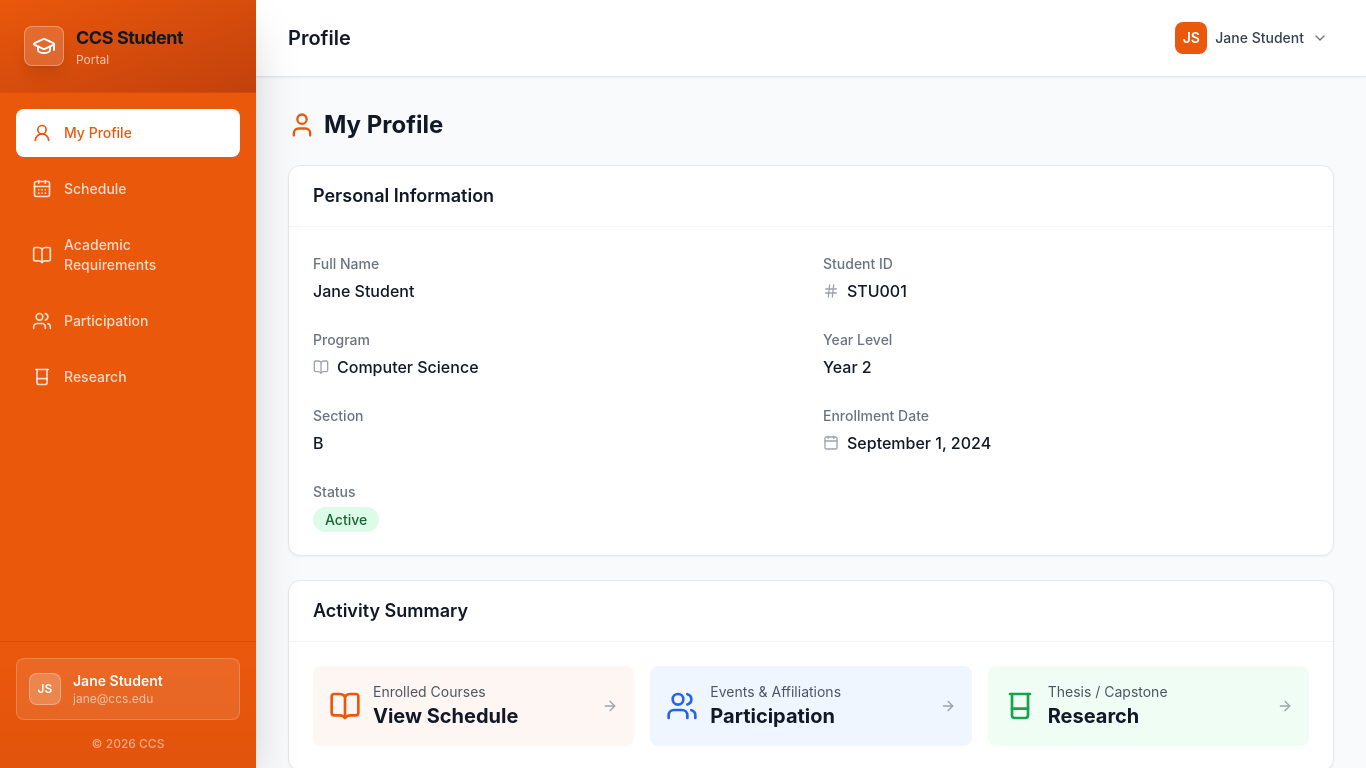
Test: Student Portal Integration Tests › Logout clears session and redirects › logout redirects to /student/login
This screenshot has width=1366, height=768.
Expected: the text "My Profile" is shown, x1=64 y1=123 x2=132 y2=143
// Open user dropdown then click logout
Click the button with aria-label "user menu" at coordinates (1252, 38), box x1=1169 y1=16 x2=1334 y2=60
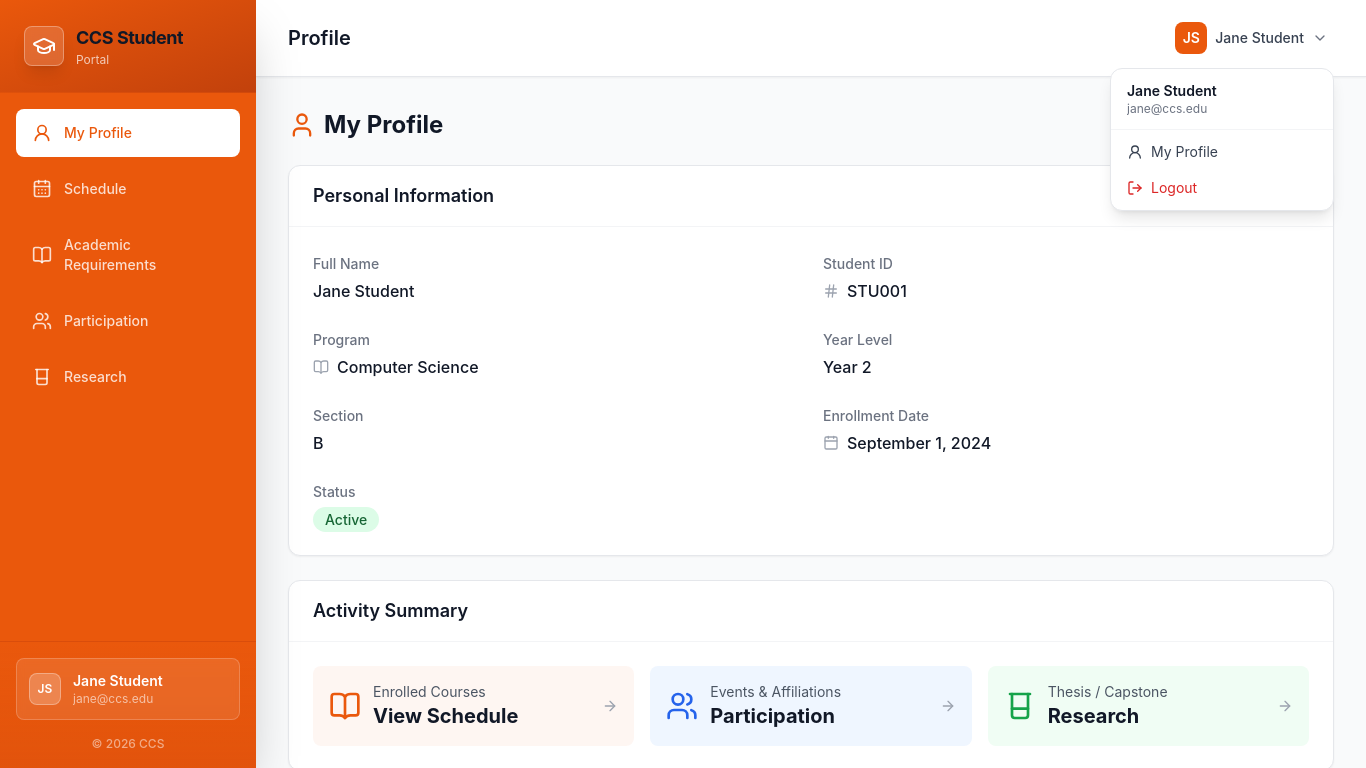
Expected: the button "Logout" is shown
Click the button "Logout" at coordinates (1222, 188), box x1=1115 y1=170 x2=1329 y2=206
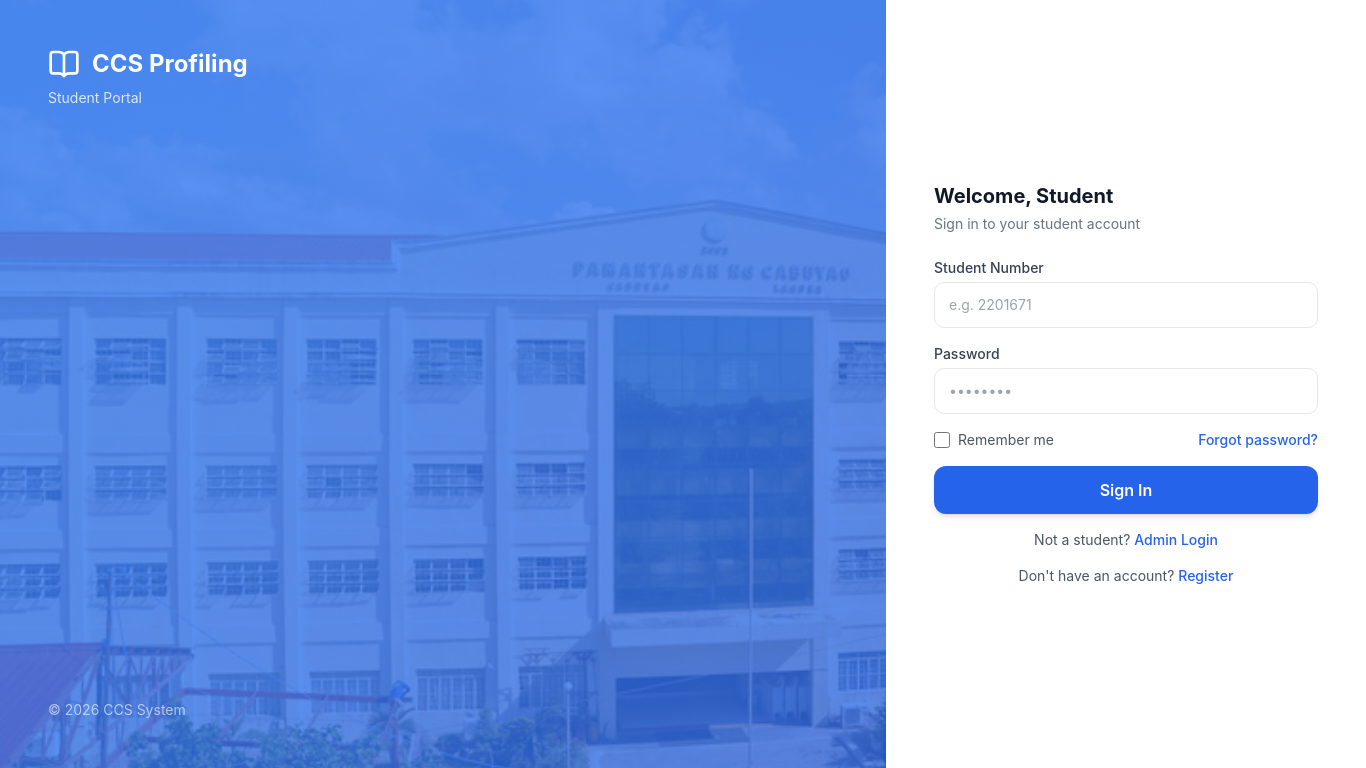
Expected: the heading "Welcome, Student" is shown, x1=934 y1=184 x2=1113 y2=208
